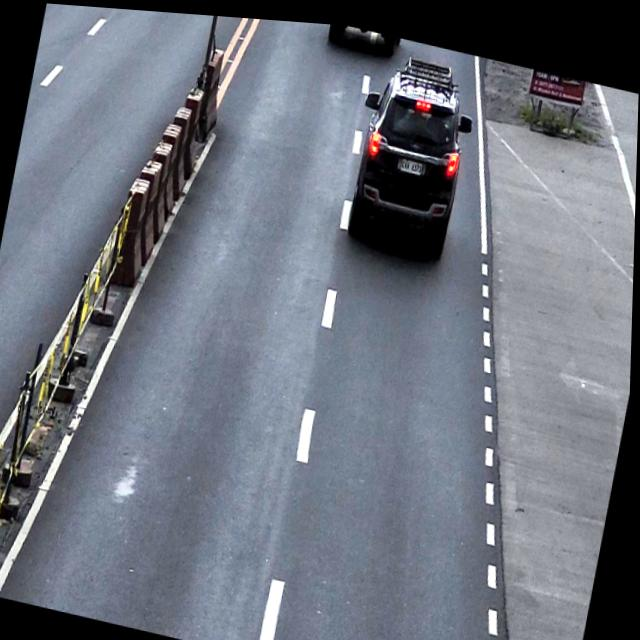Car: (339, 39, 484, 258)
License-Plate: (397, 148, 428, 171)
